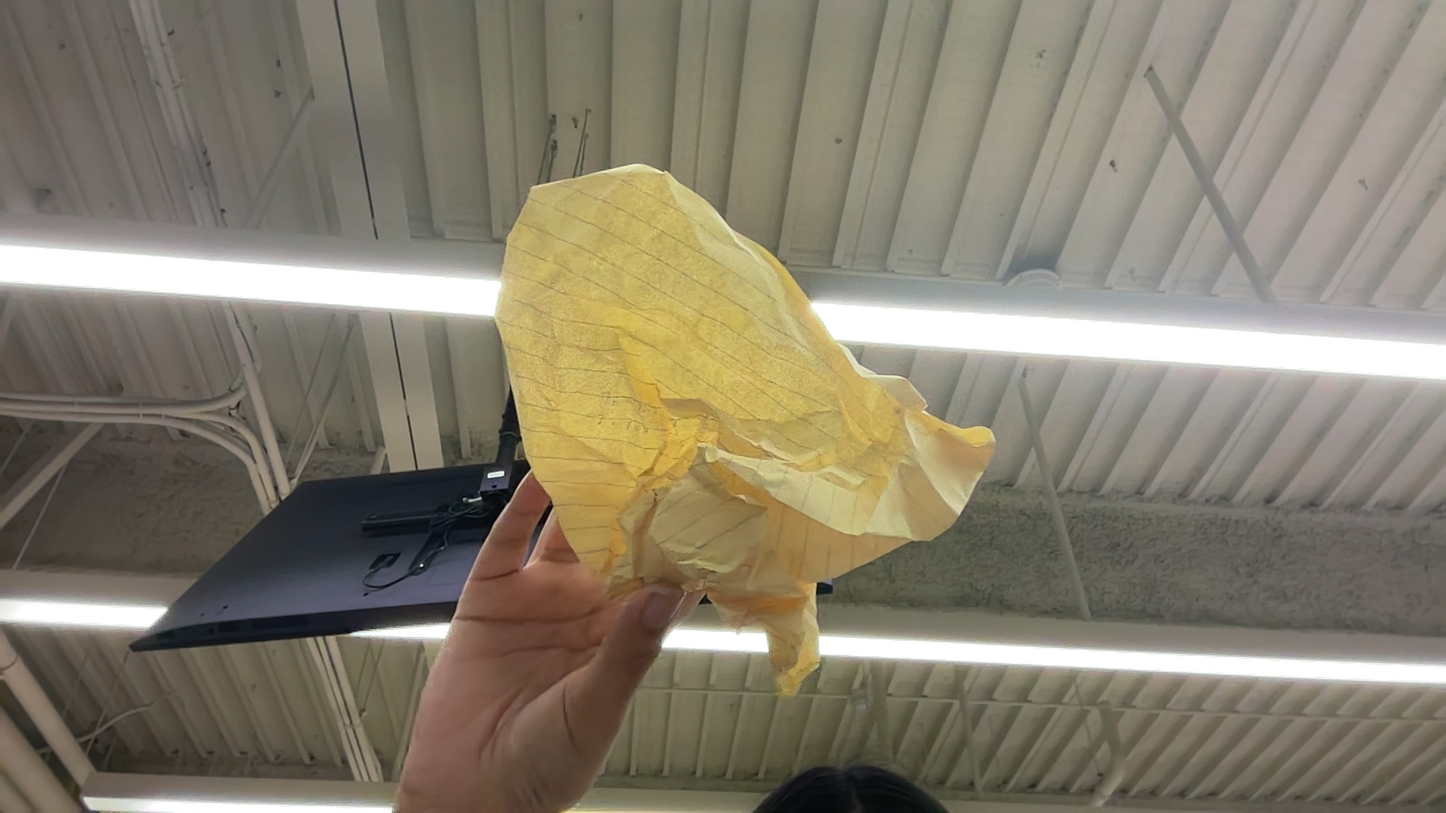Paper: (5, 403, 274, 609)
